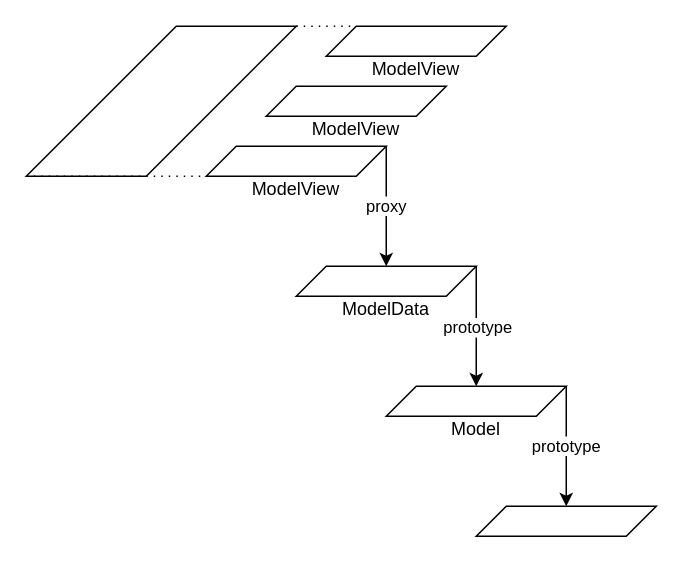
Image size: 683x585. Some labels were removed from this diagram. The shapes that lost their labels are listed below. From the top down, each one's centre as x and y in pixels, then its label:
At point (160, 100): "Collection".
At point (565, 520): "BaseModel".
